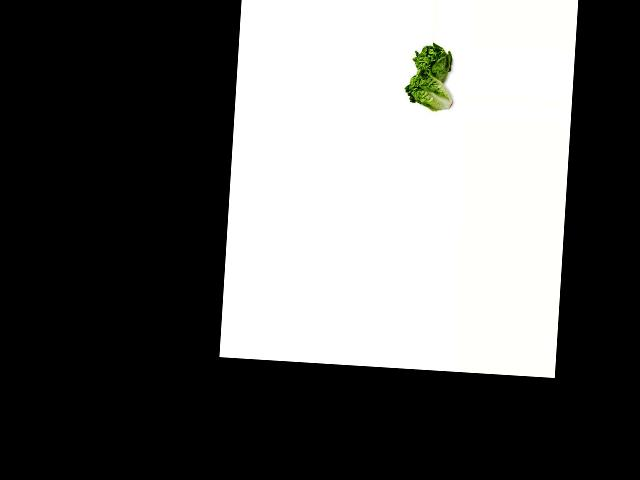lettuce: (410, 41, 458, 87)
